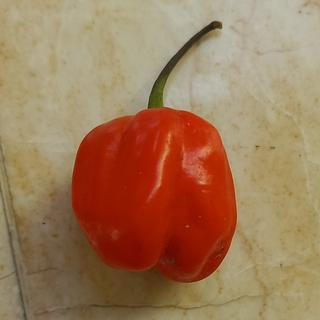Grade-B: (64, 101, 242, 284)
